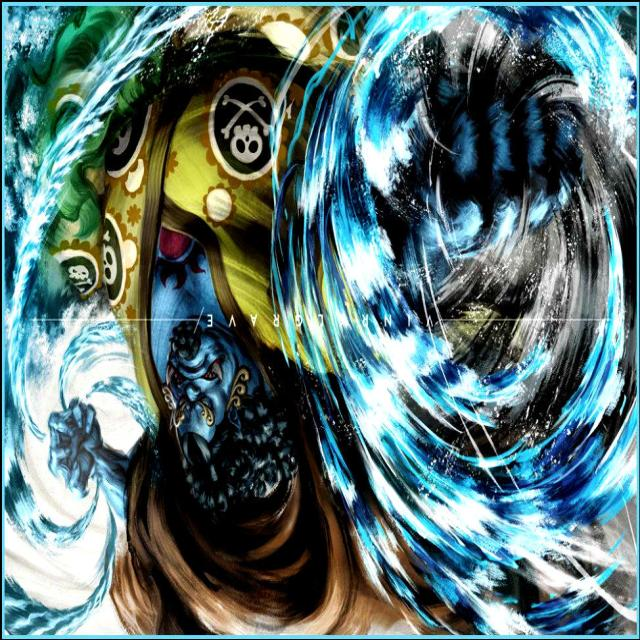Jinbe: (0, 5, 640, 640)
